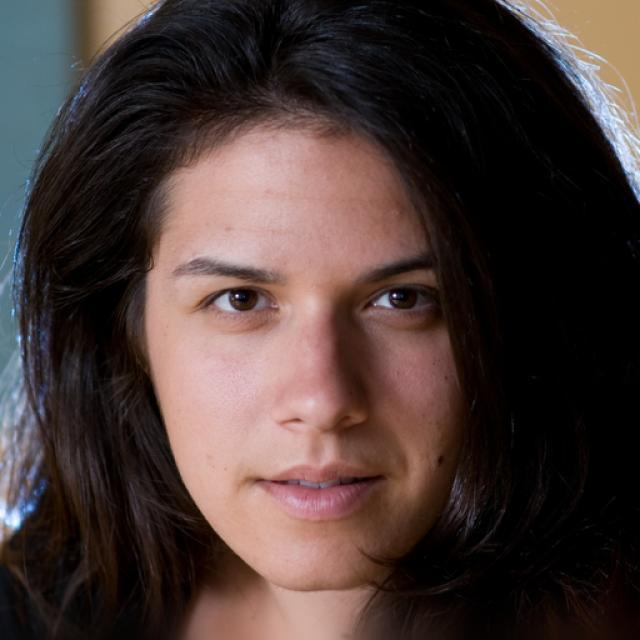content: (140, 118, 474, 592)
